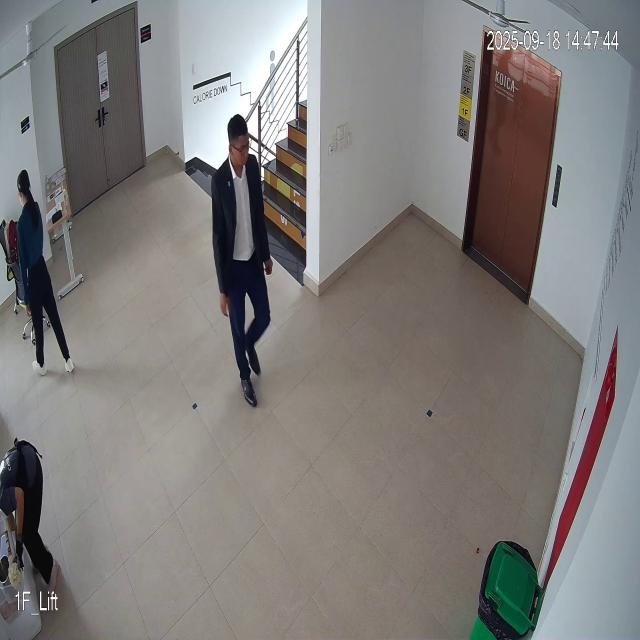face: (225, 114, 251, 170)
